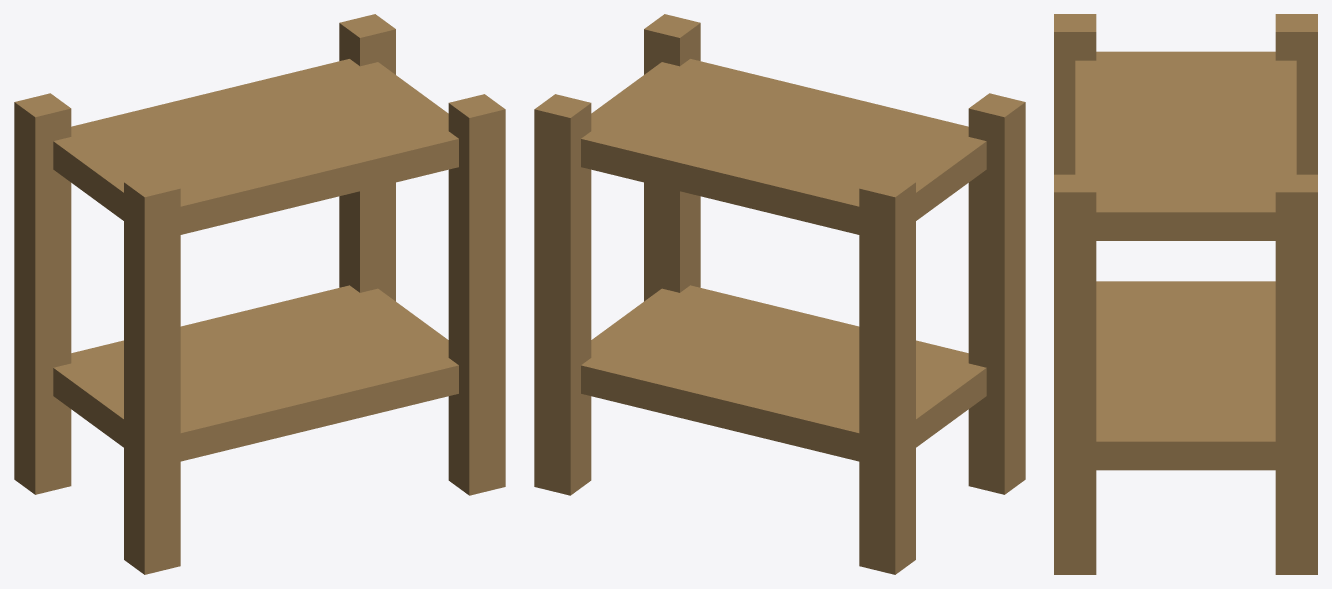
File: shelves_low.glb
The picture shows the model from 3 angles, left to right: view 1: azimuth 30°, elevation 25°; view 2: azimuth 150°, elevation 25°; view 3: azimuth 270°, elevation 25°; orthographic projection.
Parts seen in each view (by area): view 1: shelves_low; view 2: shelves_low; view 3: shelves_low.
Part boxes in pixels (x1,y1,x2,y2): shelves_low: (14, 14, 505, 574); shelves_low: (534, 14, 1025, 574); shelves_low: (1054, 14, 1317, 574).
Bounding box in the file's own units: 0.8 × 0.8 × 0.5.
